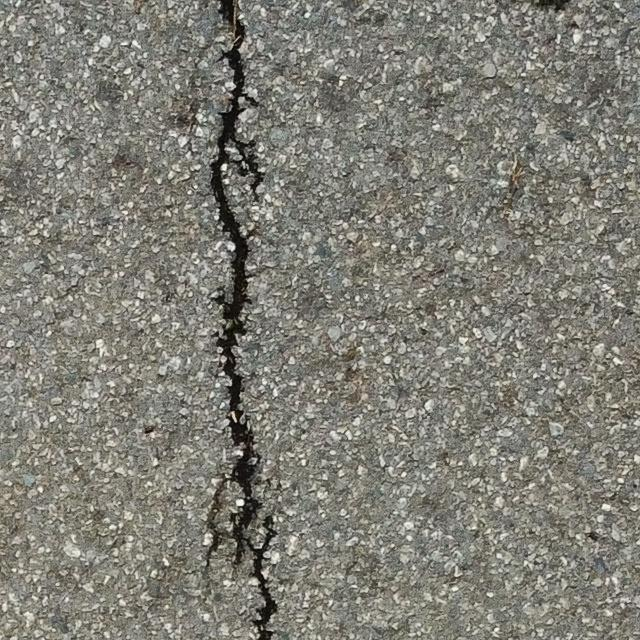LongitudinalCrack: (209, 2, 279, 640)
